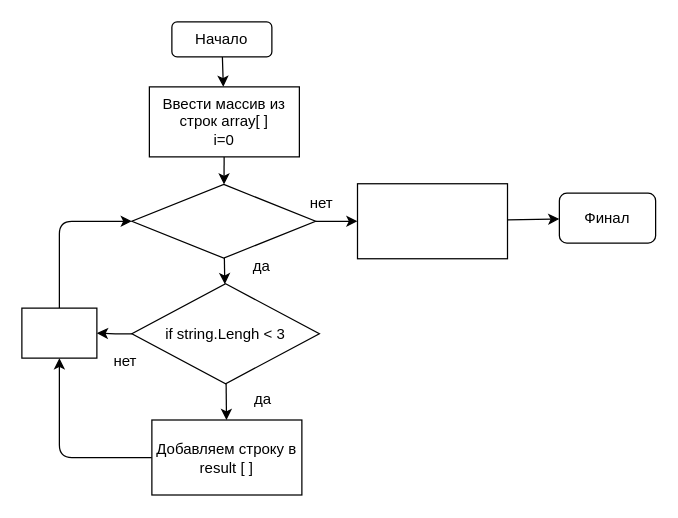
Some shapes in this 678 by 518 pixel diagram are drawn without their labels. The shapes that lost their labels are listed below. From the top down, each one's centre as x and y in pixels, then its label:
point (223, 220): if i<array.Lengh < i
point (432, 220): Вывести result [ ]
point (59, 332): i++
